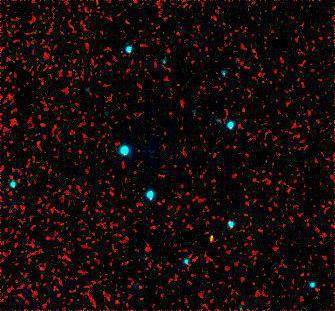star: (197, 222, 227, 252)
